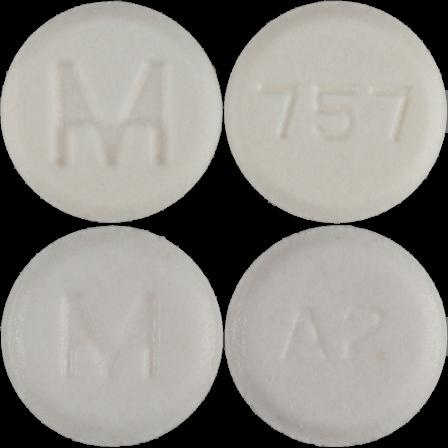60429-026: (0, 0, 224, 224)
